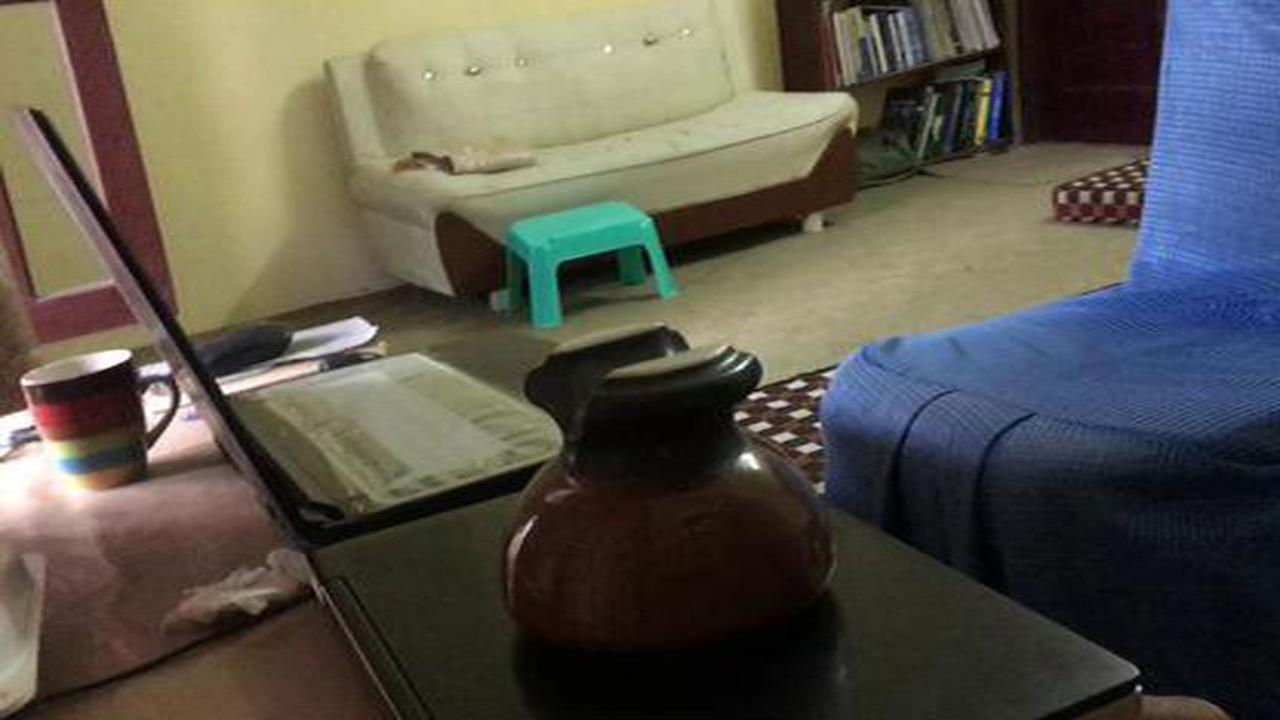insulator_pin: (461, 310, 856, 677)
